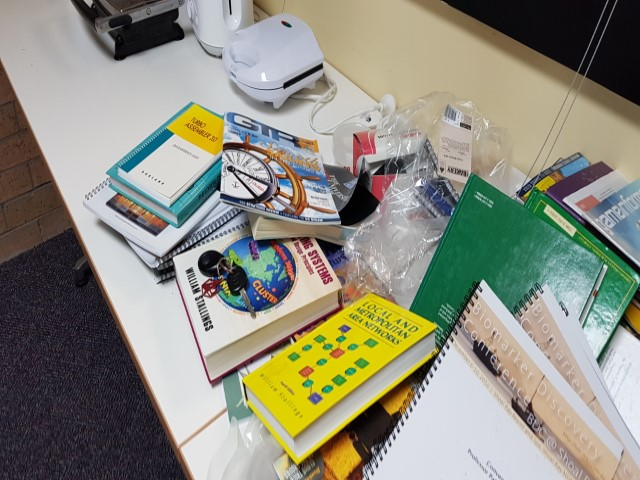key: (226, 266, 256, 319)
